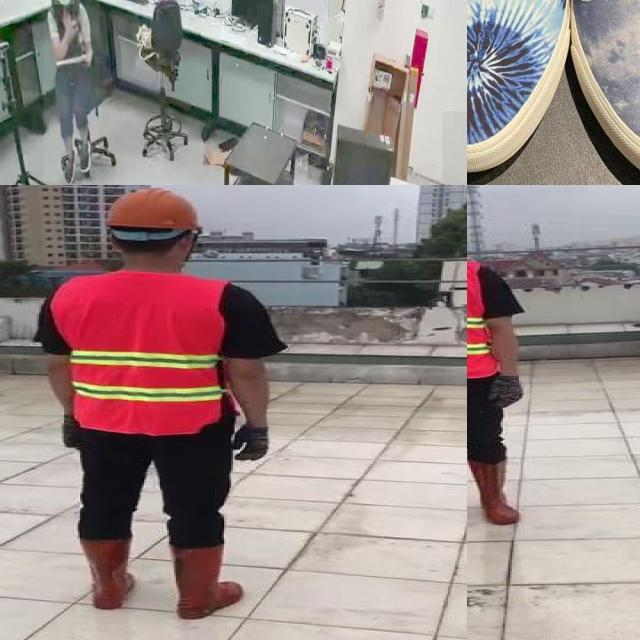Sandals: (467, 0, 588, 185), (552, 0, 640, 185)
boots: (168, 542, 243, 620), (76, 534, 140, 611), (467, 458, 524, 527)
hand_glove: (234, 421, 273, 464), (489, 379, 526, 407)
hand_noglove: (64, 12, 80, 38), (79, 42, 93, 68)
head_helmet: (96, 185, 208, 236)
person: (37, 185, 280, 633), (467, 194, 532, 537), (43, 0, 100, 182)
shoes: (60, 145, 79, 185), (77, 138, 93, 176)
vest: (59, 271, 224, 436), (467, 260, 497, 377)
